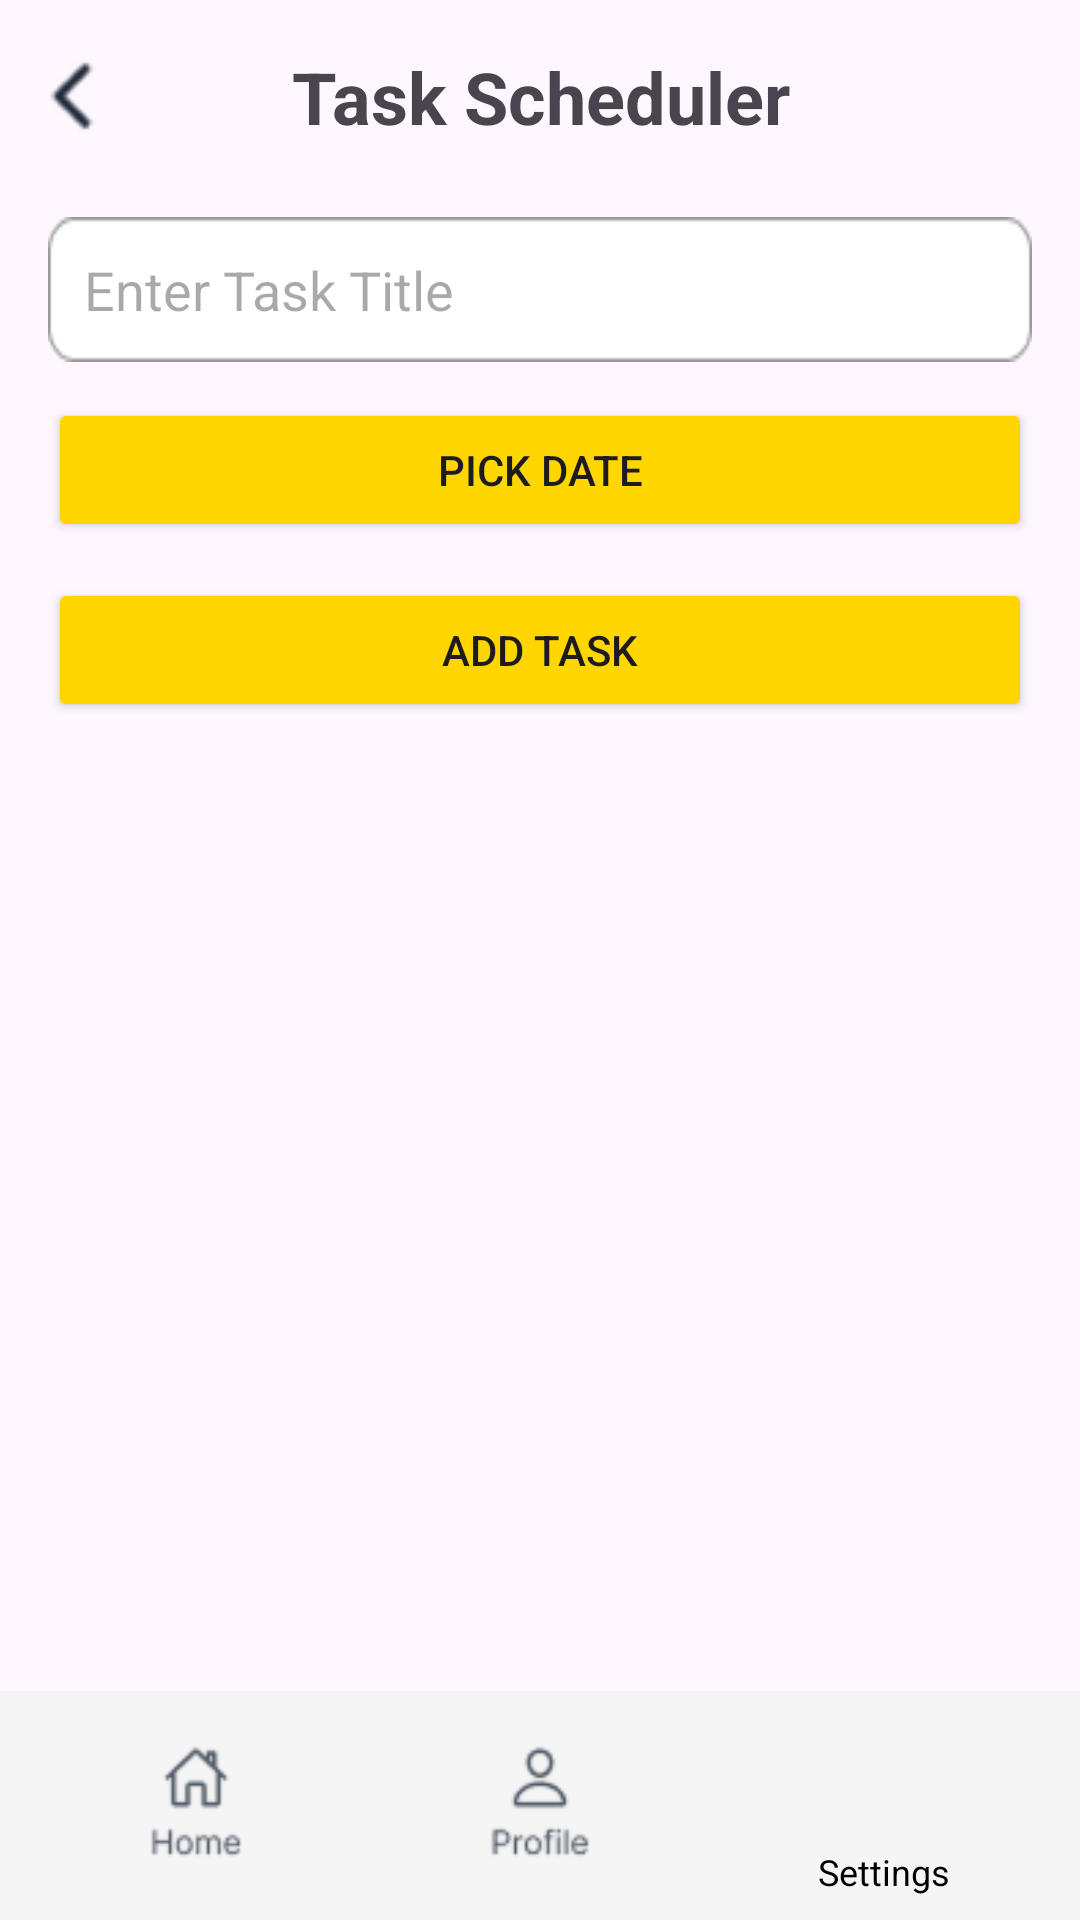

Named icons in this screenshot (1080 × 1920) and their centers, [x,y]:
Back: [72,96]
